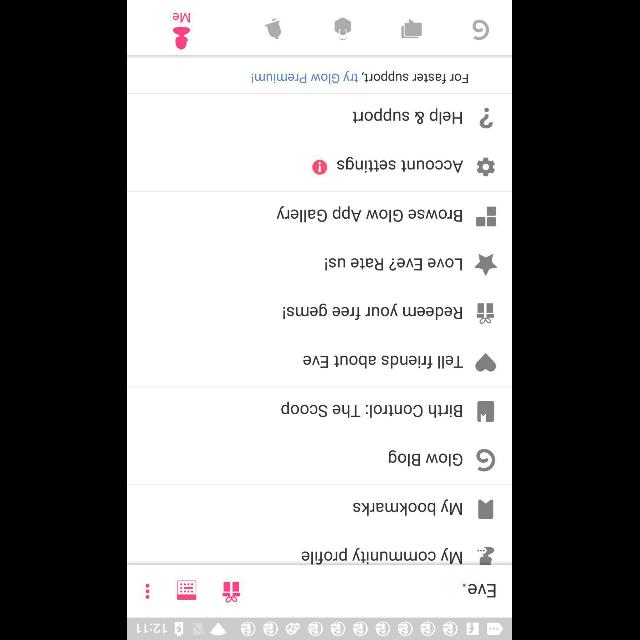icon: (474, 254, 498, 276), (477, 206, 497, 227), (402, 19, 422, 39), (476, 352, 496, 372), (334, 18, 352, 40), (264, 18, 282, 40), (477, 302, 495, 324), (173, 26, 190, 49), (178, 580, 196, 600), (223, 582, 241, 602), (478, 401, 494, 423), (477, 158, 495, 176), (478, 499, 494, 518), (481, 108, 494, 128), (313, 159, 329, 175), (146, 583, 150, 599)
image: (478, 546, 496, 564)
text: (282, 400, 462, 418), (277, 205, 463, 222), (252, 70, 470, 84), (283, 304, 463, 320), (302, 548, 462, 564), (304, 355, 464, 369), (338, 157, 464, 173), (353, 498, 462, 516), (353, 108, 463, 124), (325, 258, 463, 270), (389, 449, 463, 466), (476, 448, 496, 472), (468, 583, 496, 597), (472, 20, 490, 40), (173, 13, 190, 23)
toolbar: (128, 565, 512, 617)
uppertaskbar: (128, 617, 512, 639)
